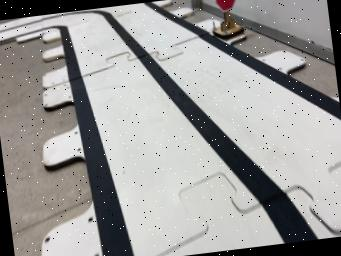stop: (213, 0, 245, 37), (213, 0, 245, 37), (213, 0, 245, 37), (213, 0, 245, 37), (213, 0, 245, 37), (213, 0, 245, 37)
street: (0, 1, 341, 256), (0, 1, 341, 256), (0, 1, 341, 256), (0, 1, 341, 256), (0, 1, 341, 256), (0, 1, 341, 256)
